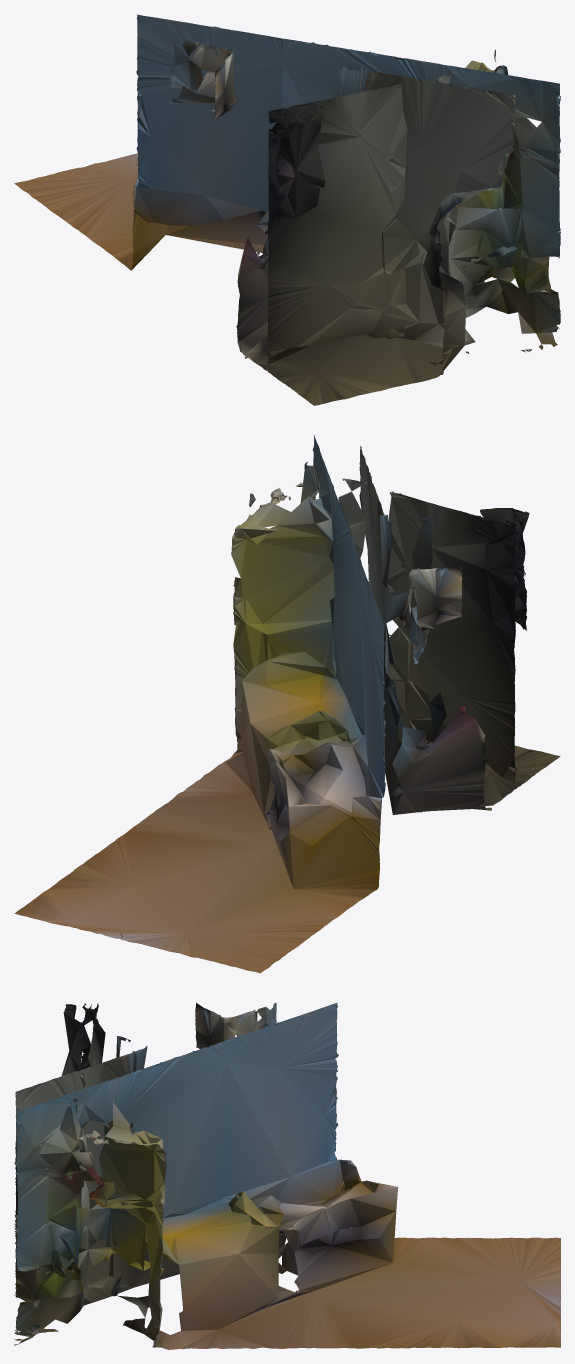
The model's file is coarse.glb.
3 views of the same model, one above another, from view 1: azimuth 30°, elevation 25°; view 2: azimuth 150°, elevation 25°; view 3: azimuth 270°, elevation 25° (orthographic). The views are drawn at different scales.
Size of the model in its own units: 1.11 by 1.16 by 2.35.
